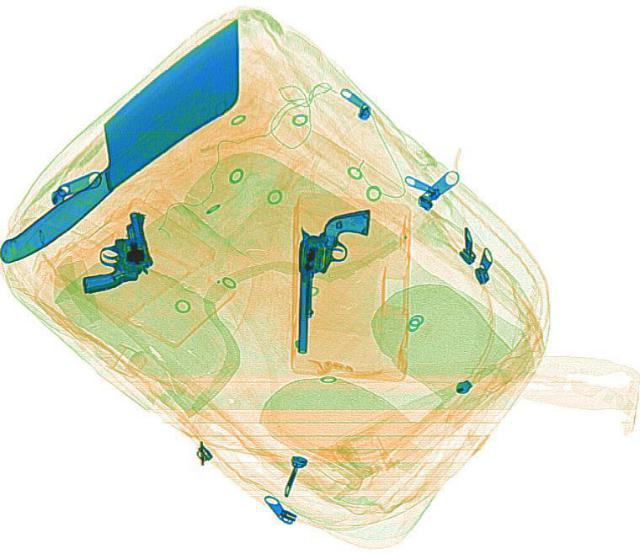Gun: (290, 207, 370, 351), (63, 208, 161, 292)
Knife: (0, 14, 291, 237)
